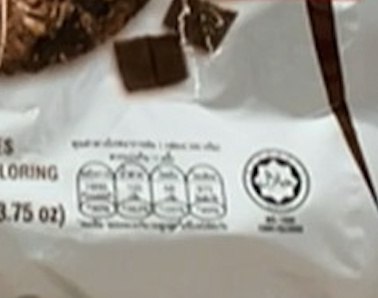halal: (261, 170, 298, 193)
